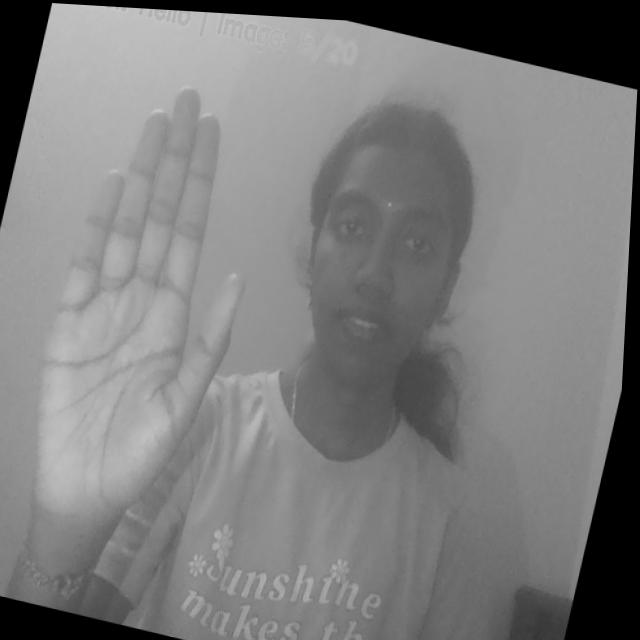Hello: (11, 55, 288, 554)
